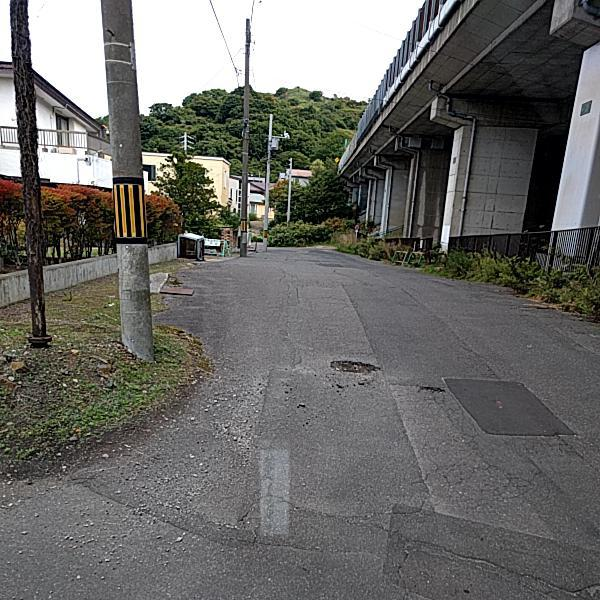Lubang: (334, 356, 387, 379)
Sambungan: (382, 499, 600, 600), (448, 379, 580, 437)
